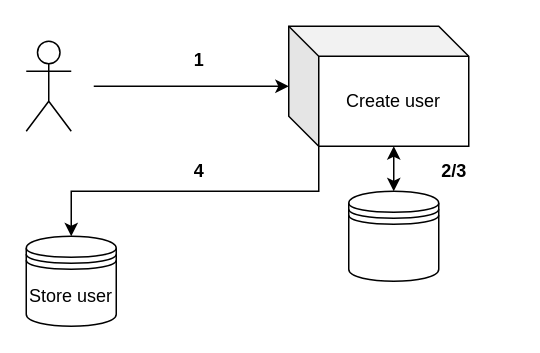
This 540x353 diagram has some shape labels left out. Each missing label, with the centre of its shape:
"Actor" goes at (x=48, y=85).
"Get Puuid from riot api" goes at (x=393, y=235).
